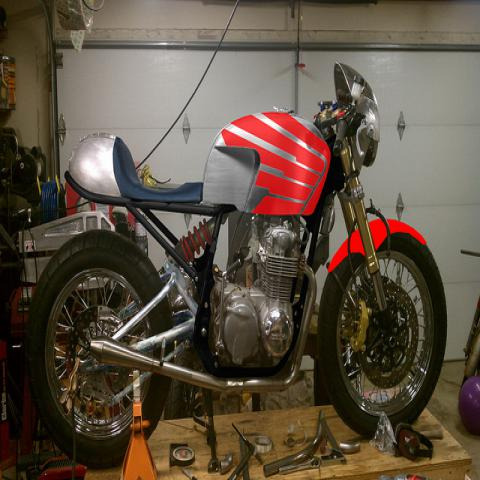motorcycle: (26, 59, 448, 476)
